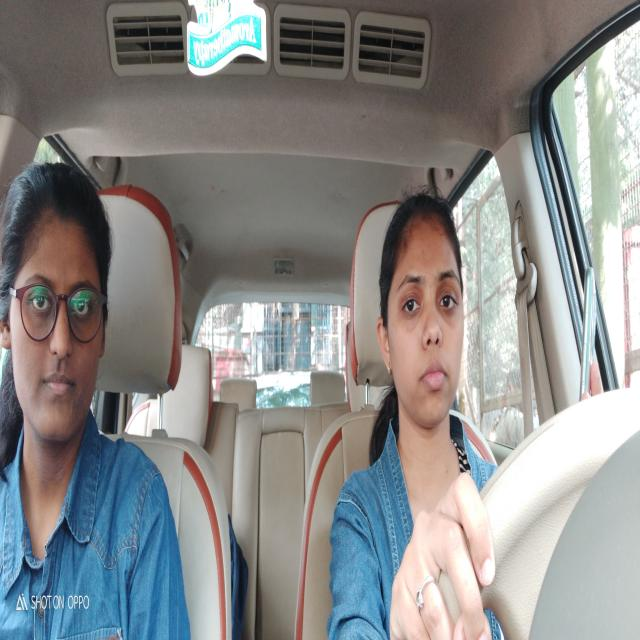mobile: (568, 231, 608, 421)
person: (0, 144, 113, 450), (373, 153, 478, 457)
